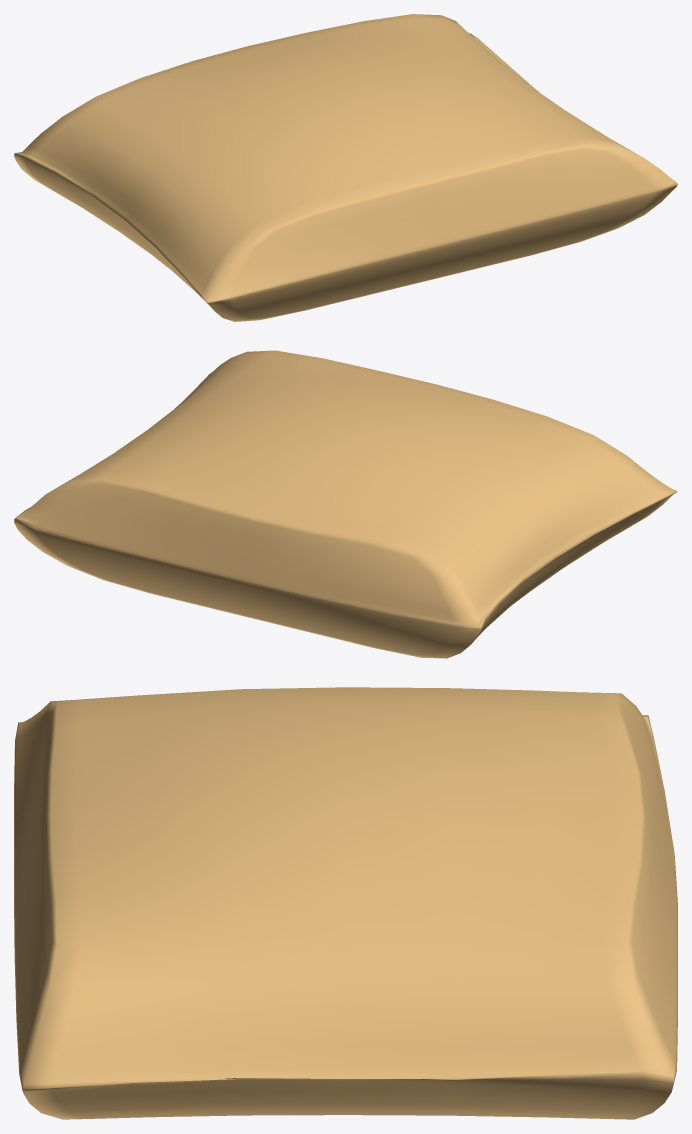
File: pillow.fbx
3 renders of one model, top to bottom at view 1: azimuth 30°, elevation 25°; view 2: azimuth 150°, elevation 25°; view 3: azimuth 270°, elevation 25°, orthographic. The views are drawn at different scales.
Visible parts, largest first — view 1: pillow; view 2: pillow; view 3: pillow.
Part boxes in pixels (x1,y1,x2,y2): pillow: (14, 14, 677, 321); pillow: (14, 350, 677, 658); pillow: (14, 687, 677, 1119).
Size of the model in its own units: 2.96 by 0.8219 by 2.24.
